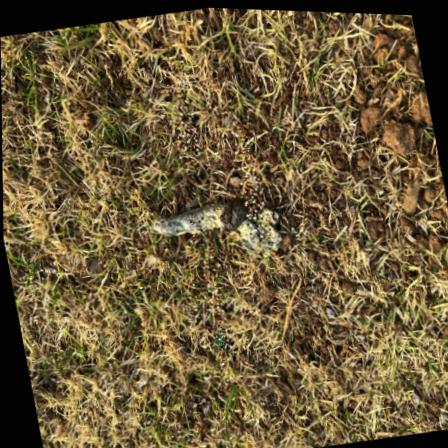dog-poop: (153, 178, 288, 269)
